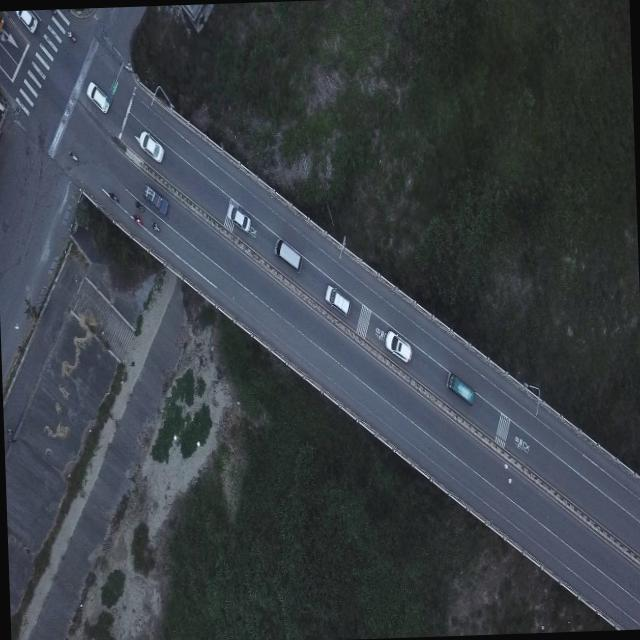bike: (68, 148, 78, 161), (108, 190, 118, 202), (5, 428, 14, 437), (134, 214, 142, 224), (150, 220, 158, 230), (68, 32, 74, 44)
car: (444, 367, 474, 403), (274, 233, 302, 270), (382, 331, 410, 364), (137, 130, 164, 164), (324, 284, 351, 318), (225, 200, 250, 233), (145, 183, 169, 216), (85, 80, 109, 112), (16, 9, 38, 32)
